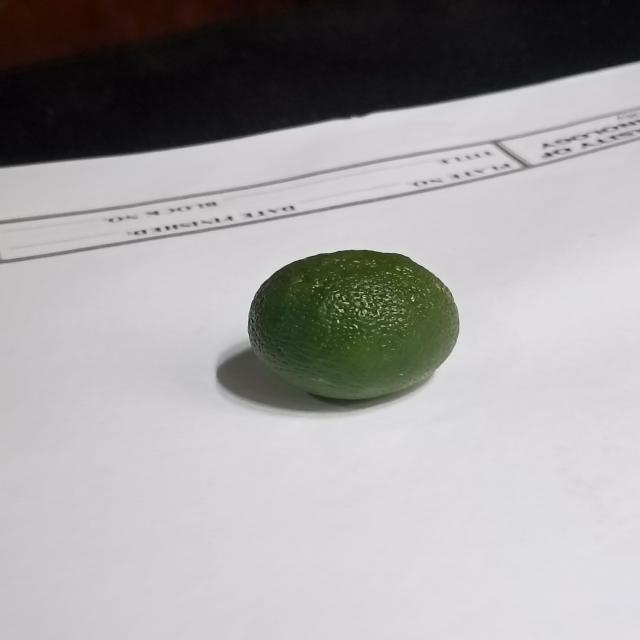heathy: (245, 250, 460, 409)
